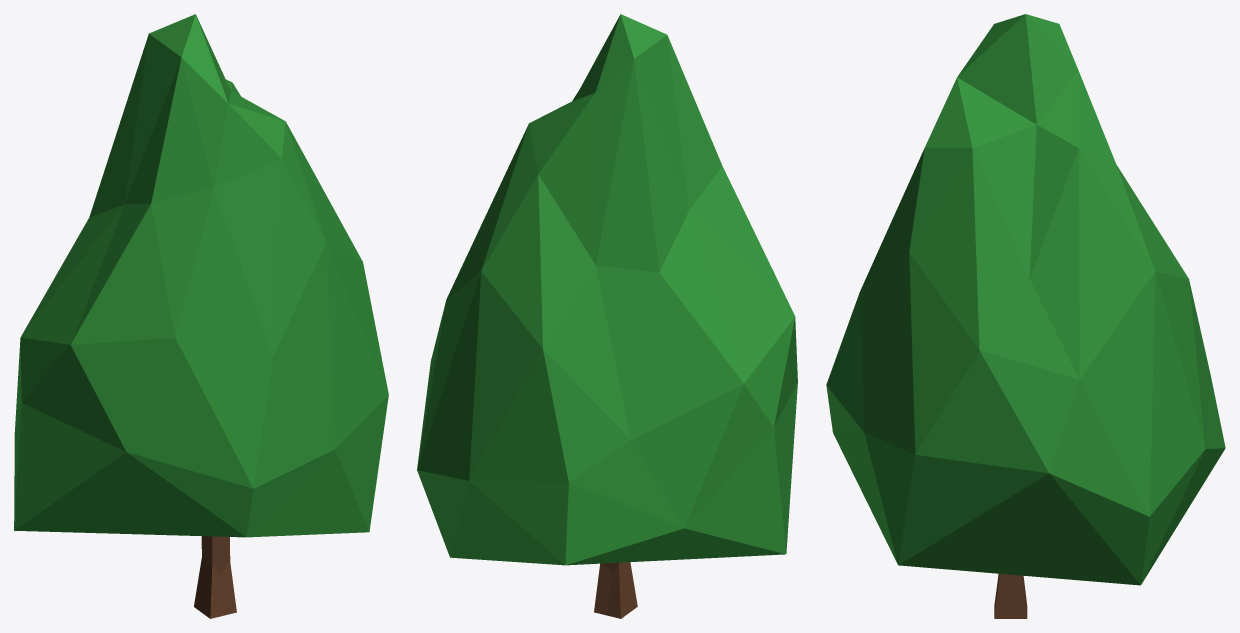
Rendered from Tree_11_Green.fbx.
3 views of the same model, side by side, from view 1: azimuth 30°, elevation 25°; view 2: azimuth 150°, elevation 25°; view 3: azimuth 270°, elevation 25° (orthographic).
Parts seen in each view (by area): view 1: Tree_11_Green; view 2: Tree_11_Green; view 3: Tree_11_Green.
Boxes of the visible parts, x1,y1,x2,y2 form: Tree_11_Green: (14,14,388,618); Tree_11_Green: (417,14,797,618); Tree_11_Green: (826,14,1225,618).
Bounding box in the file's own units: 483 × 790 × 483.
